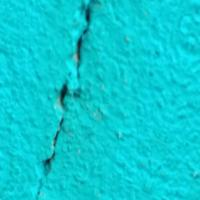crack: (22, 0, 114, 199)
